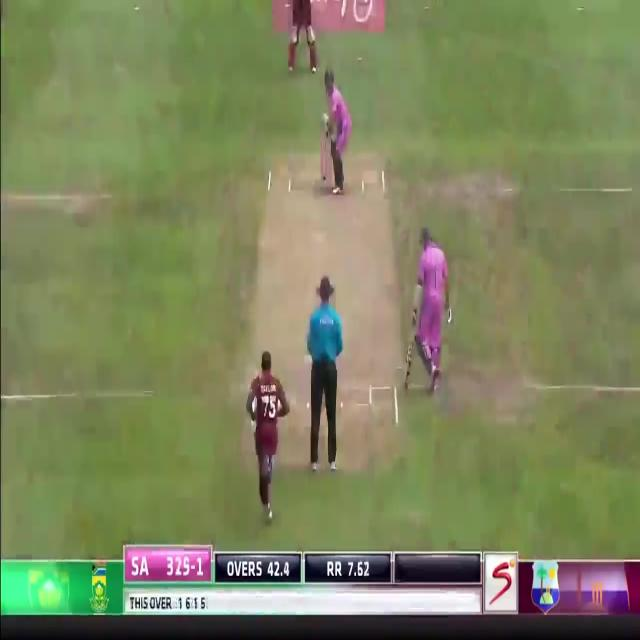Ball: (411, 220, 453, 390), (319, 67, 353, 193)
Fielder: (246, 351, 290, 522), (286, 0, 317, 68)
Umpire: (306, 275, 343, 477)
